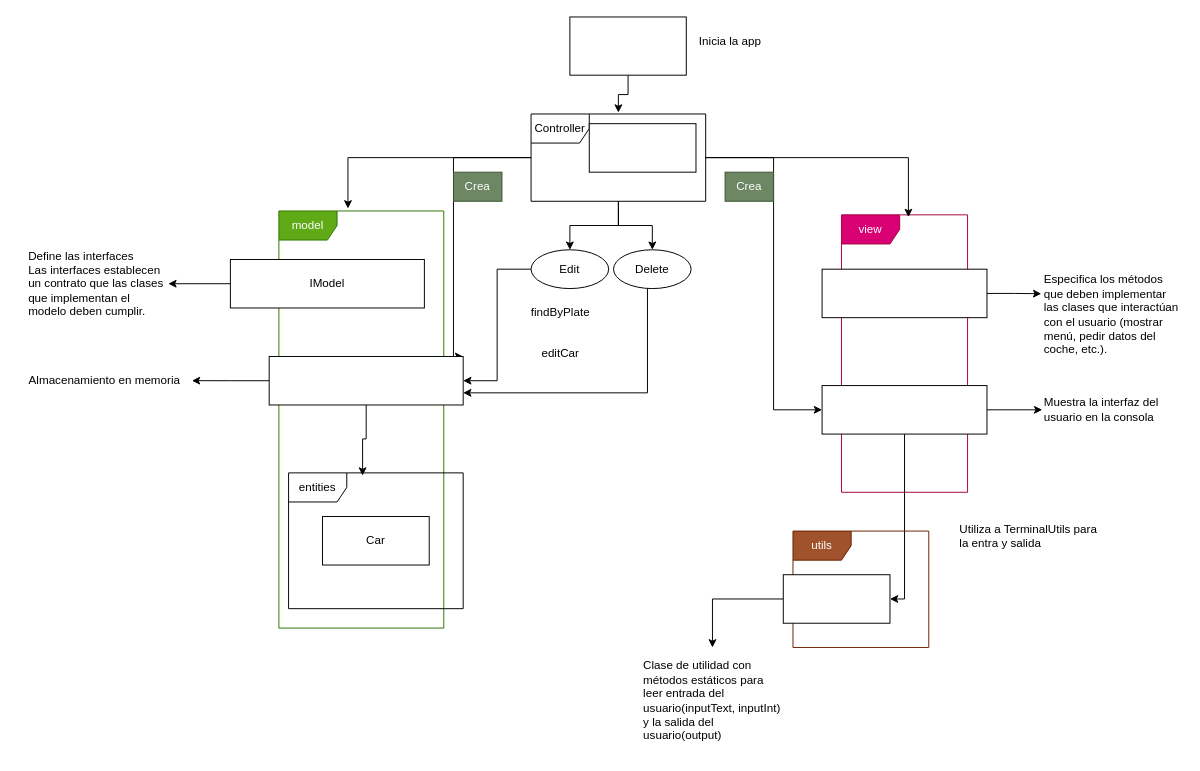
Image size: 1200x771. Some labels were removed from this diagram. The centre of each missing label's shape, as x and y in pixels:
IMainView: the point at 904,293
IModelMemory: the point at 365,380
Main: the point at 627,45
MainController: the point at 642,147
MainTerminalView: the point at 904,409
TerminalUtils: the point at 836,598
